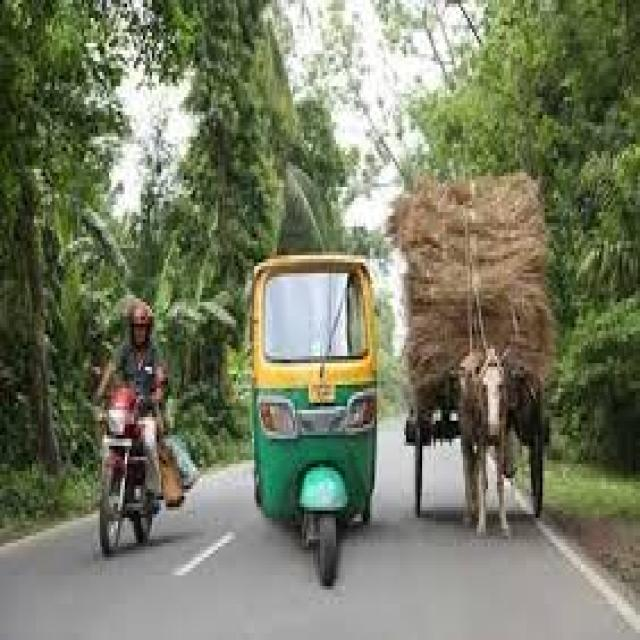motorcycle: (102, 381, 154, 550)
person: (100, 298, 163, 500)
three wheeler: (252, 252, 374, 582)
